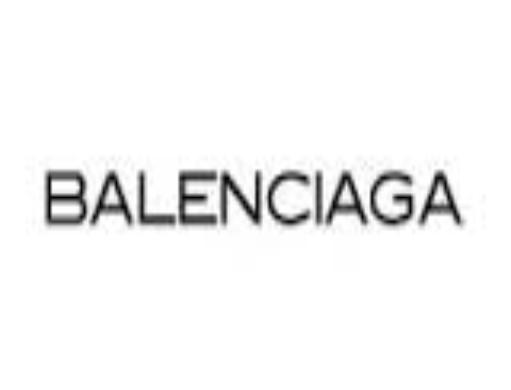BALENCIAGA: (41, 165, 466, 229)
